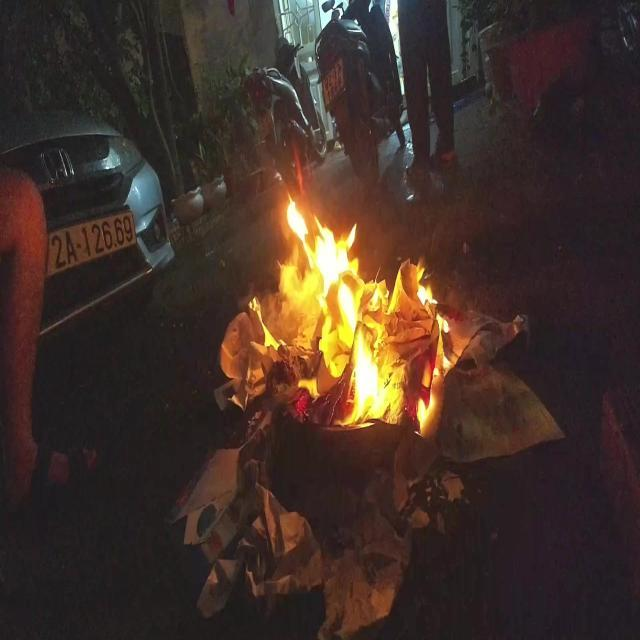Fire: (260, 138, 453, 428)
